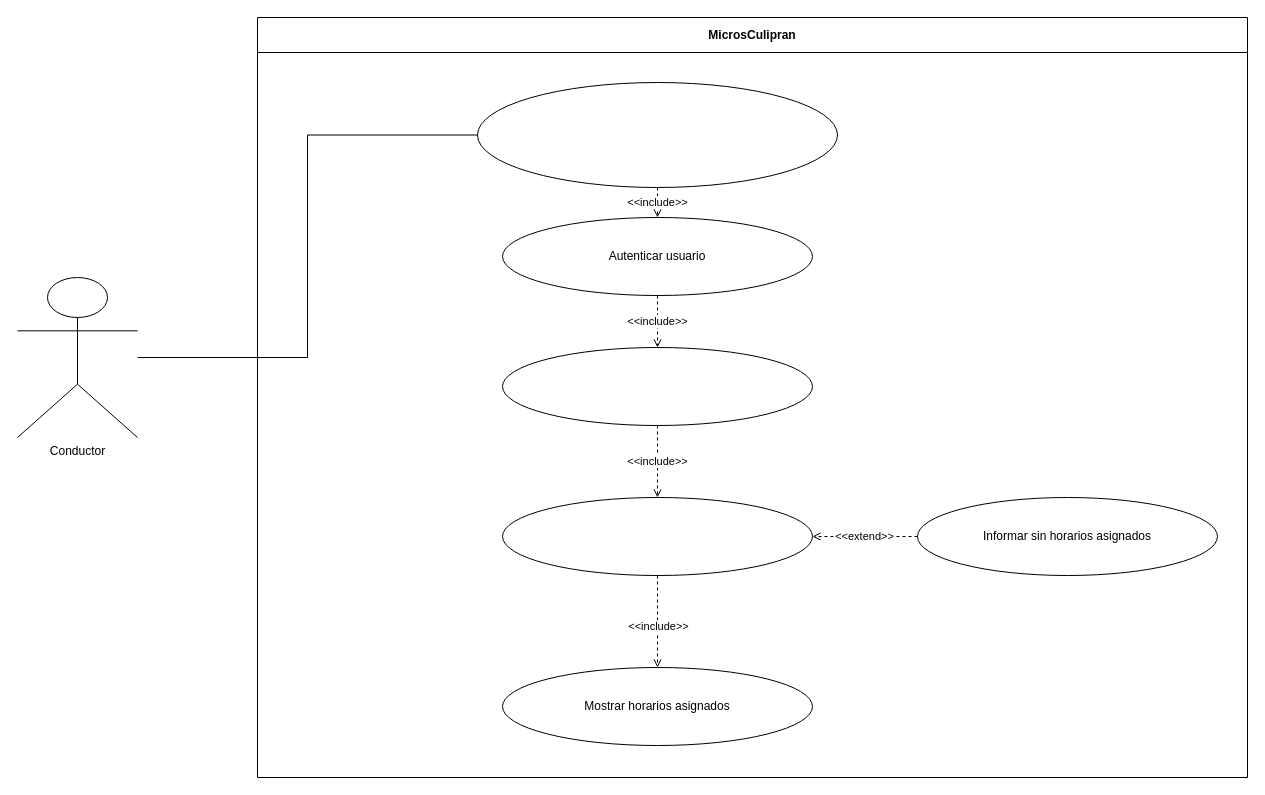
The diagram is 1265 pixels wide and 795 high, and some of its shapes have lost their labels. The shapes that lost their labels are listed below. From the top down, each one's box as (x1, y1, x2, y2) in pixels, then its label:
(476, 82, 838, 188): CU-09 Consultar horarios asignados
(502, 346, 812, 426): Identificar conductor
(502, 496, 812, 576): Consultar horarios asociados
